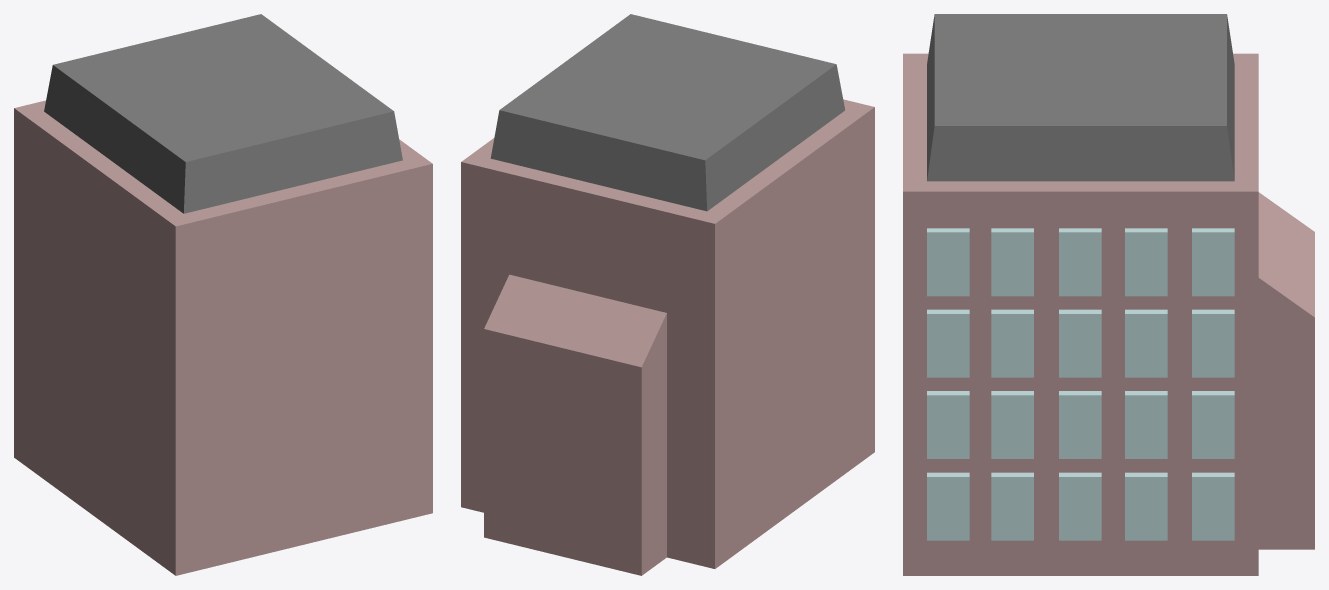
Rendered from Lvl9.fbx.
The picture shows the model from 3 angles, left to right: view 1: azimuth 30°, elevation 25°; view 2: azimuth 150°, elevation 25°; view 3: azimuth 270°, elevation 25°; orthographic projection. The views are drawn at different scales.
Visible parts, largest first — view 1: Lvl9; view 2: Lvl9; view 3: Lvl9.
Part boxes in pixels (box(x1,y1,x2,y2)): Lvl9: box(14, 14, 432, 575); Lvl9: box(461, 14, 874, 575); Lvl9: box(903, 14, 1314, 575).
Bounding box in the file's own units: 245 × 351 × 300.
